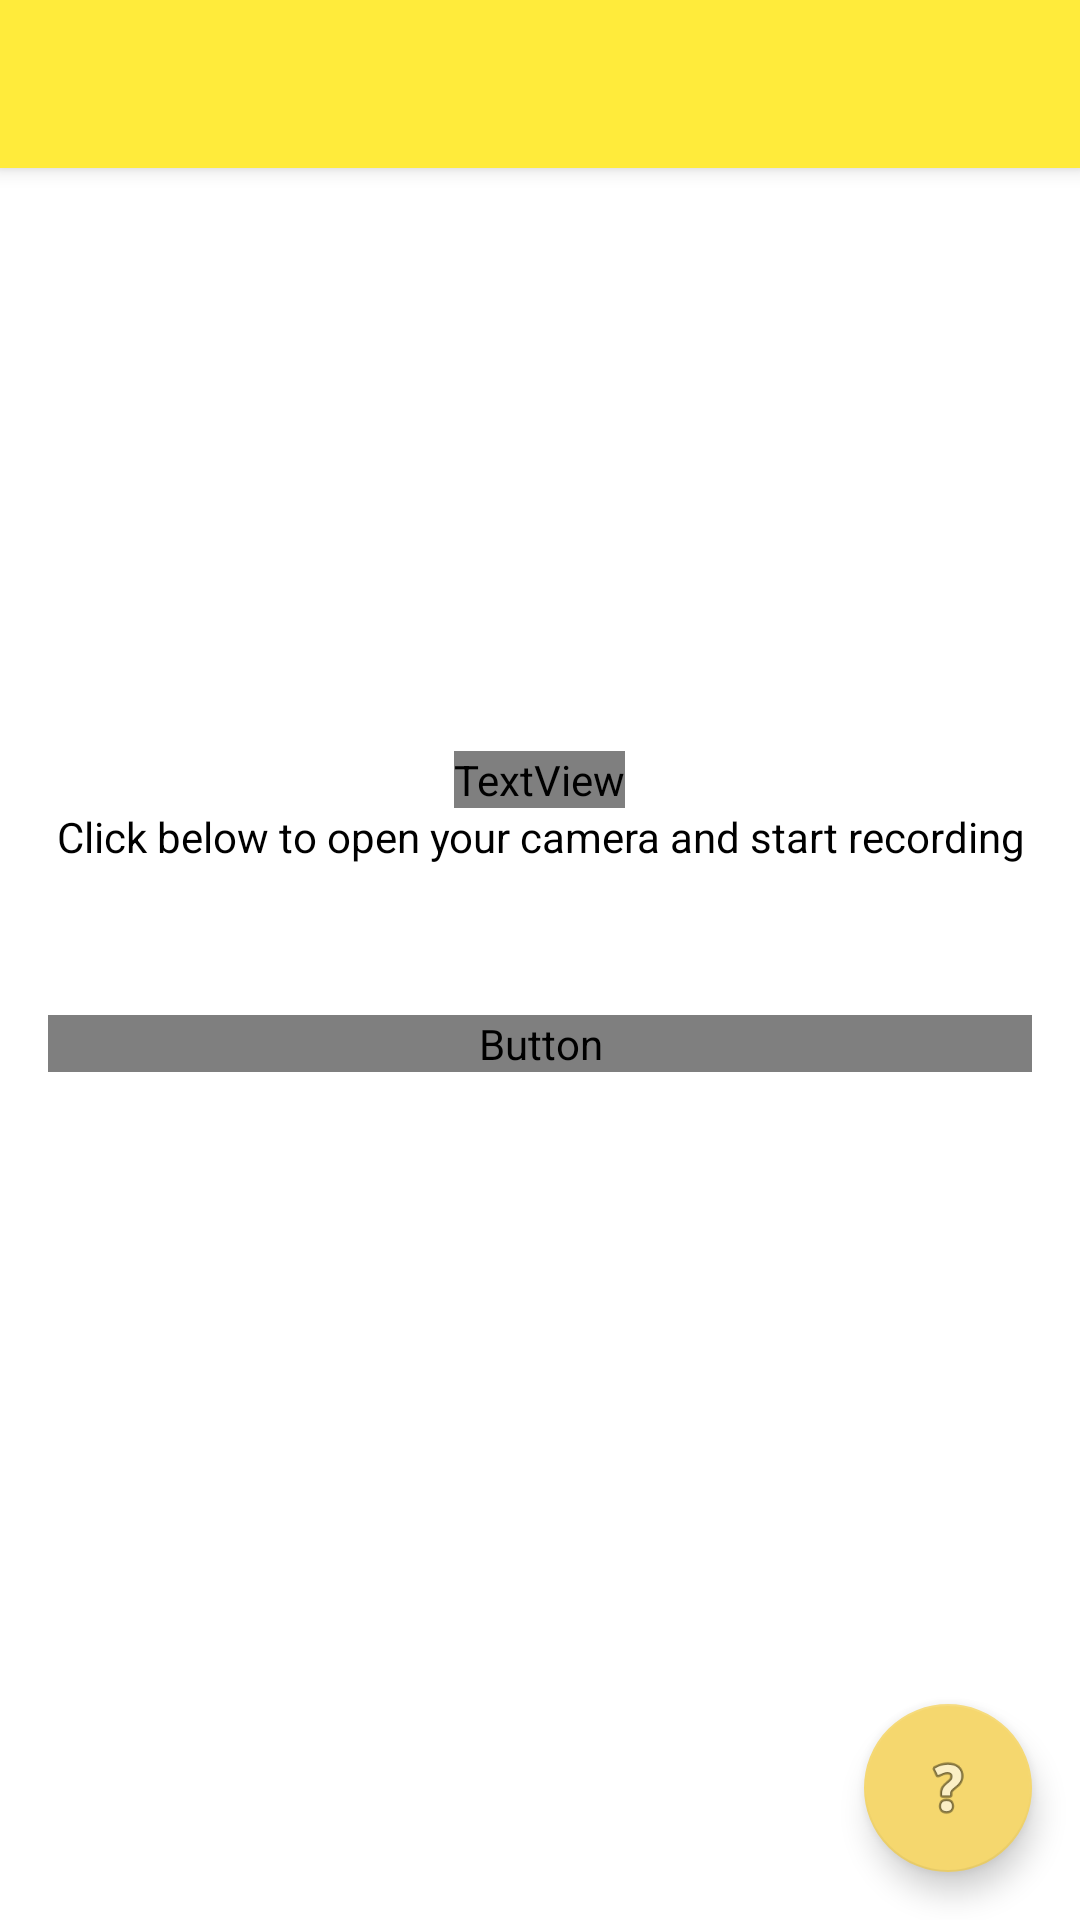

Locate icon controls on the screen. Image size 1080px×1920px, boxes as (x1, y1, x2, y2).
help: (864, 1704, 1032, 1872)
